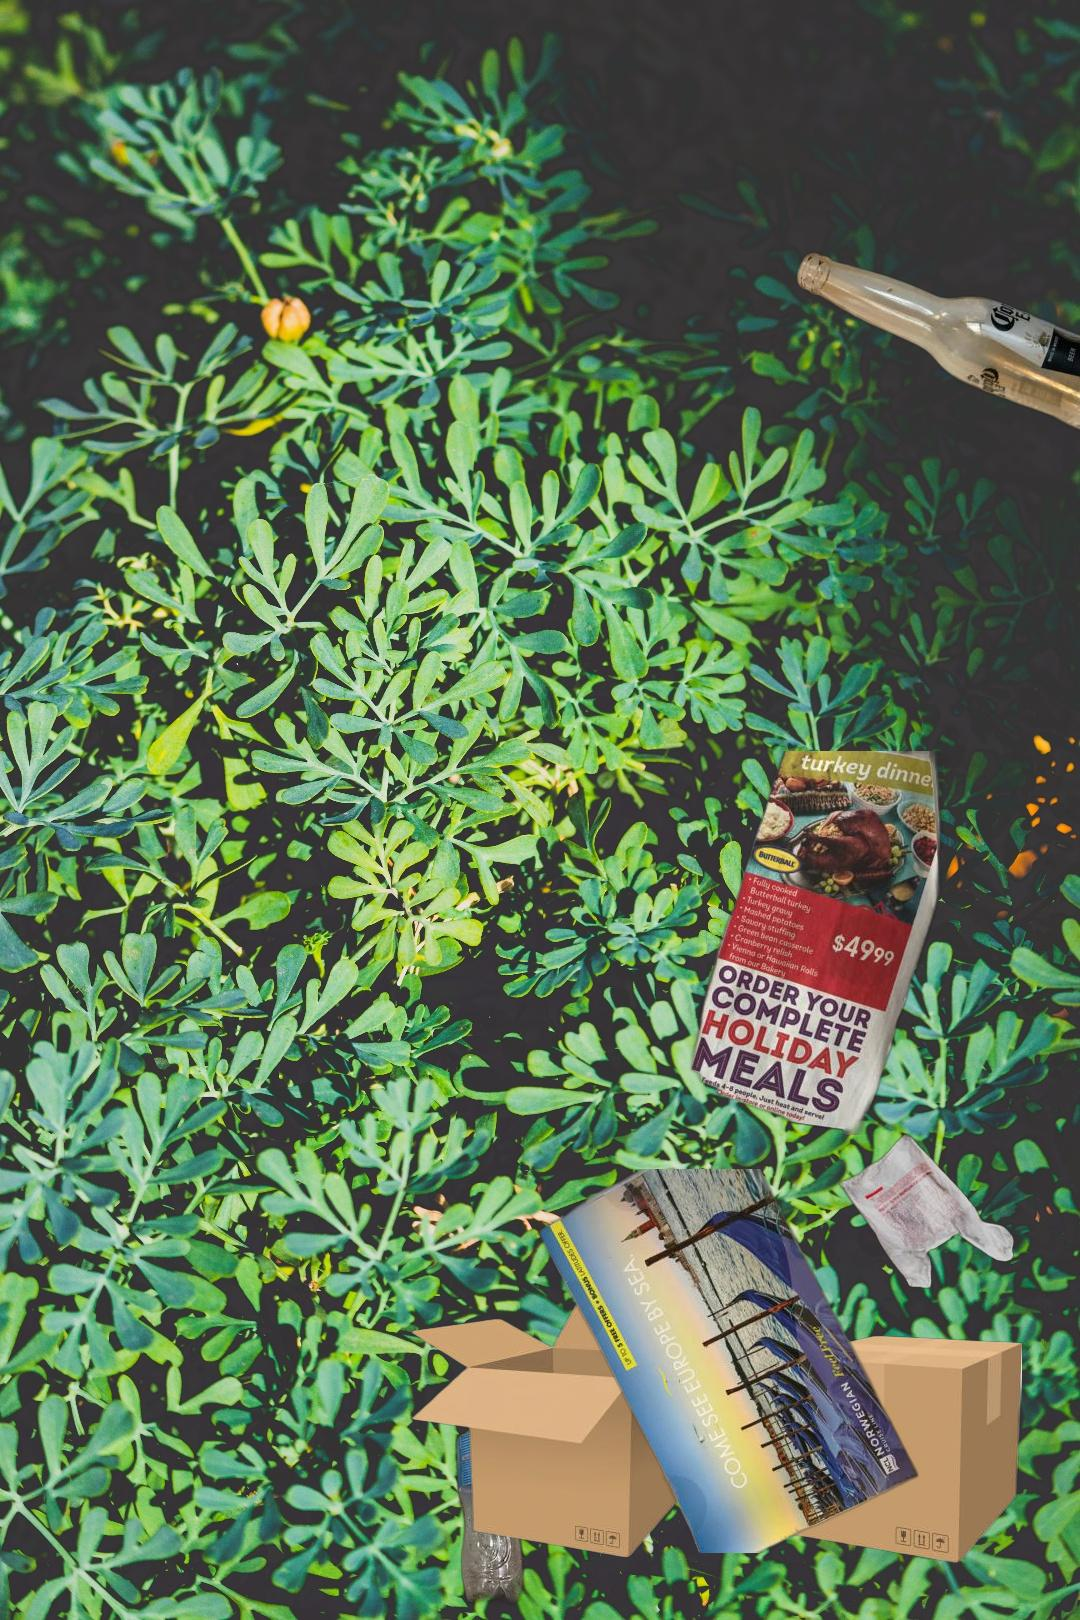glass: (792, 250, 1080, 440)
paper: (466, 751, 952, 1135), (535, 1169, 923, 1552)
plastic-bag: (837, 1131, 1017, 1290)
plastic-bottles: (452, 1358, 527, 1616)
trashbox-cardboard: (410, 1302, 1022, 1563)
